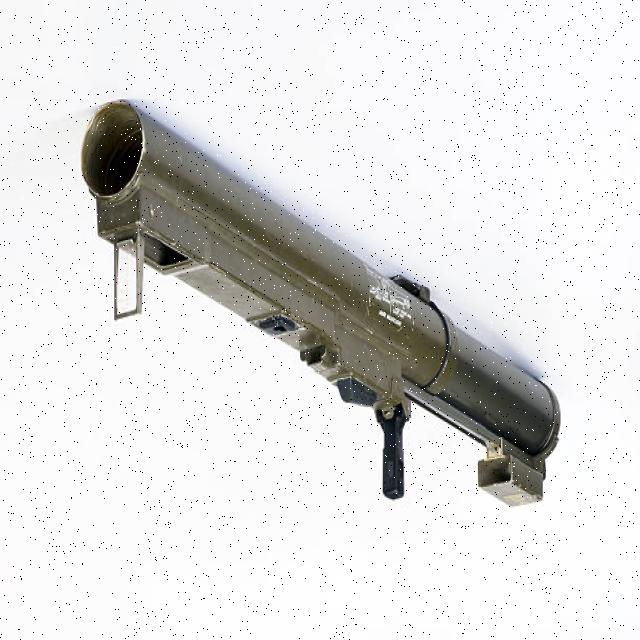bazooka: (76, 87, 566, 533)
